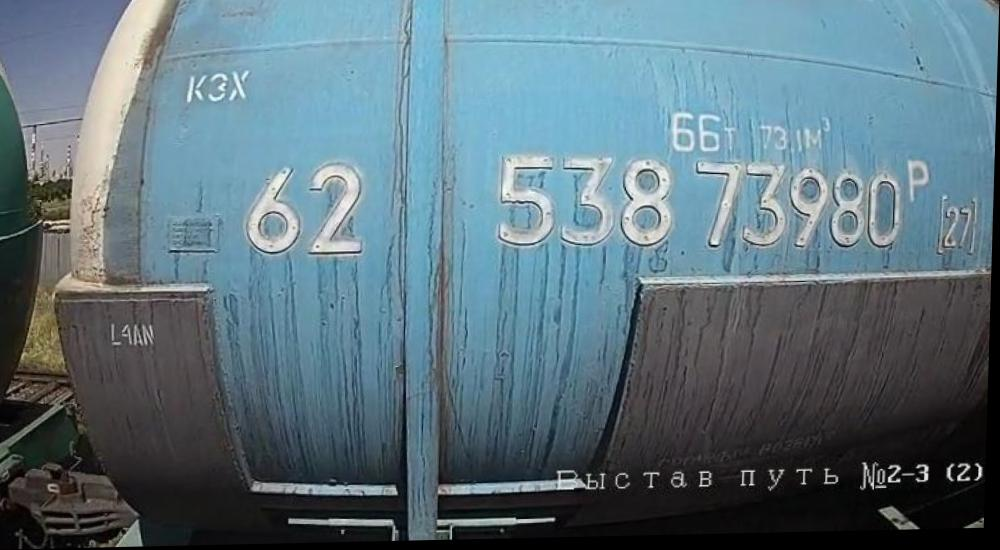Wagon-number: (493, 145, 911, 270)
